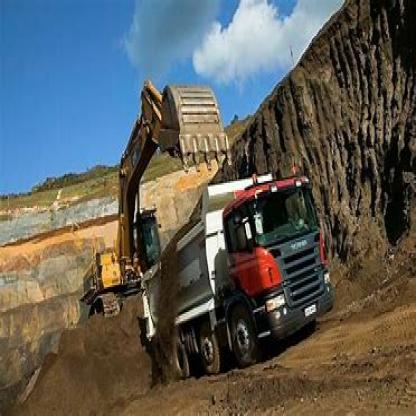dump_truck: (149, 165, 344, 362)
